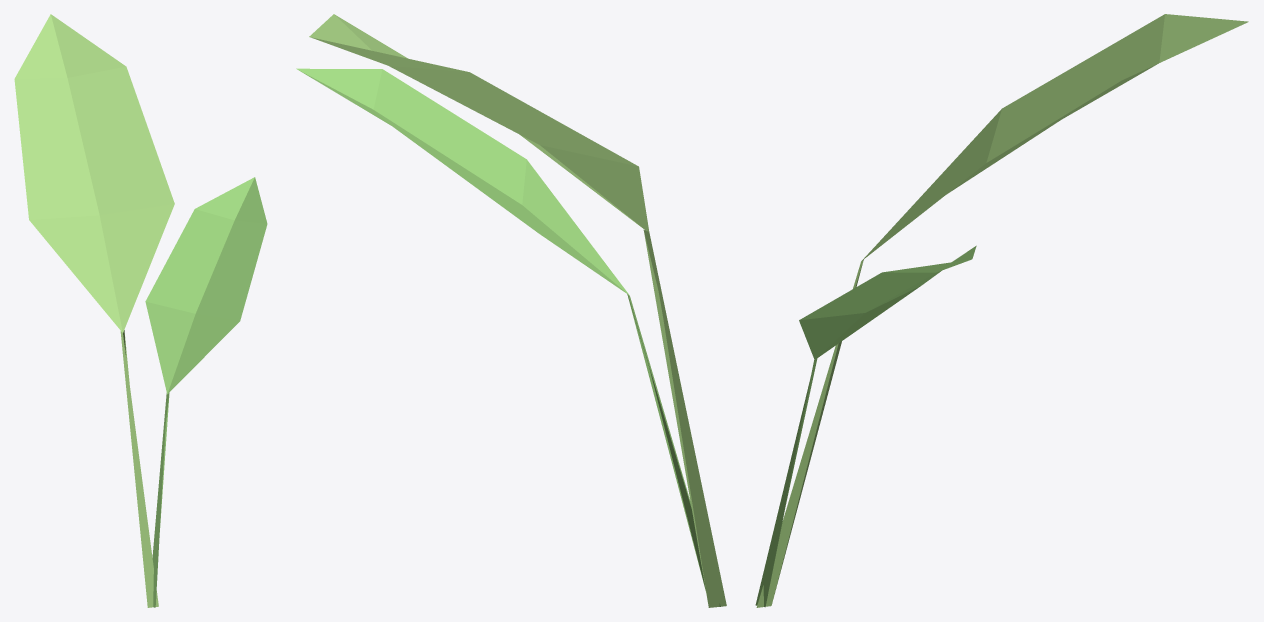
File: Plant_j_OneS_07.fbx
The picture shows the model from 3 angles, left to right: view 1: azimuth 30°, elevation 25°; view 2: azimuth 150°, elevation 25°; view 3: azimuth 270°, elevation 25°; orthographic projection. The views are drawn at different scales.
Visible parts, largest first — view 1: Plant_j_OneS_07; view 2: Plant_j_OneS_07; view 3: Plant_j_OneS_07.
Boxes of the visible parts, bbox=[...] form: Plant_j_OneS_07: bbox=[14, 14, 267, 607]; Plant_j_OneS_07: bbox=[296, 14, 726, 607]; Plant_j_OneS_07: bbox=[755, 14, 1248, 607].
Size of the model in its own units: 0.1402 by 0.2787 by 0.1974.
